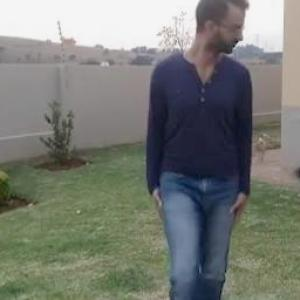follow: (148, 0, 258, 271)
